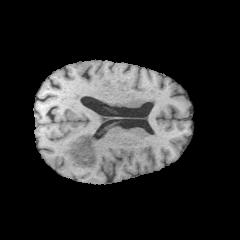glioma: (58, 129, 108, 175)
